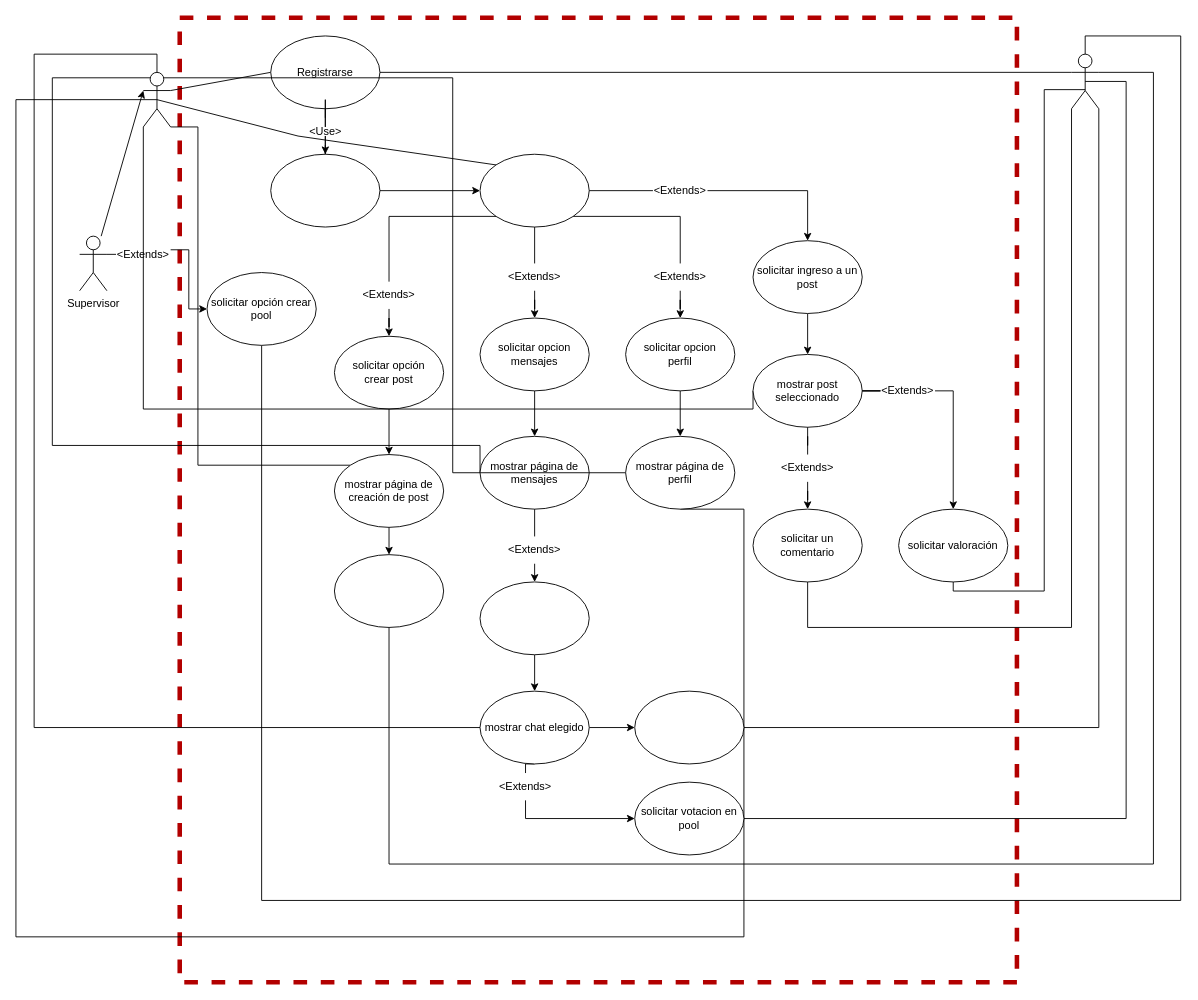
Some shapes in this 1198 by 1000 pixel diagram are drawn without their labels. The box of each missing label's shape, as (x1, y1, x2, y2) in pixels:
BD: (1071, 53, 1099, 109)
direccionar al muro: (479, 153, 589, 227)
Iniciar sesión: (270, 153, 380, 227)
solicitar datos de post: (334, 554, 444, 627)
solicitar elección de chat: (479, 581, 589, 655)
solicitar mensaje: (634, 690, 744, 764)
Usuario: (142, 71, 171, 127)
